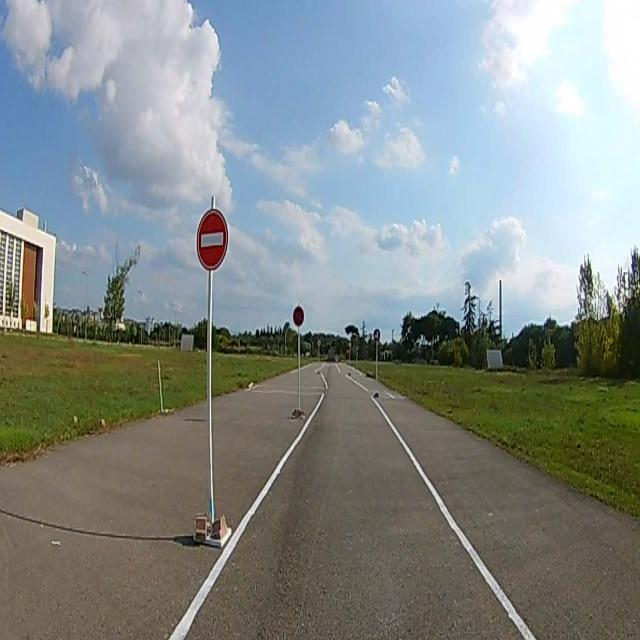girisyok: (197, 209, 228, 270)
